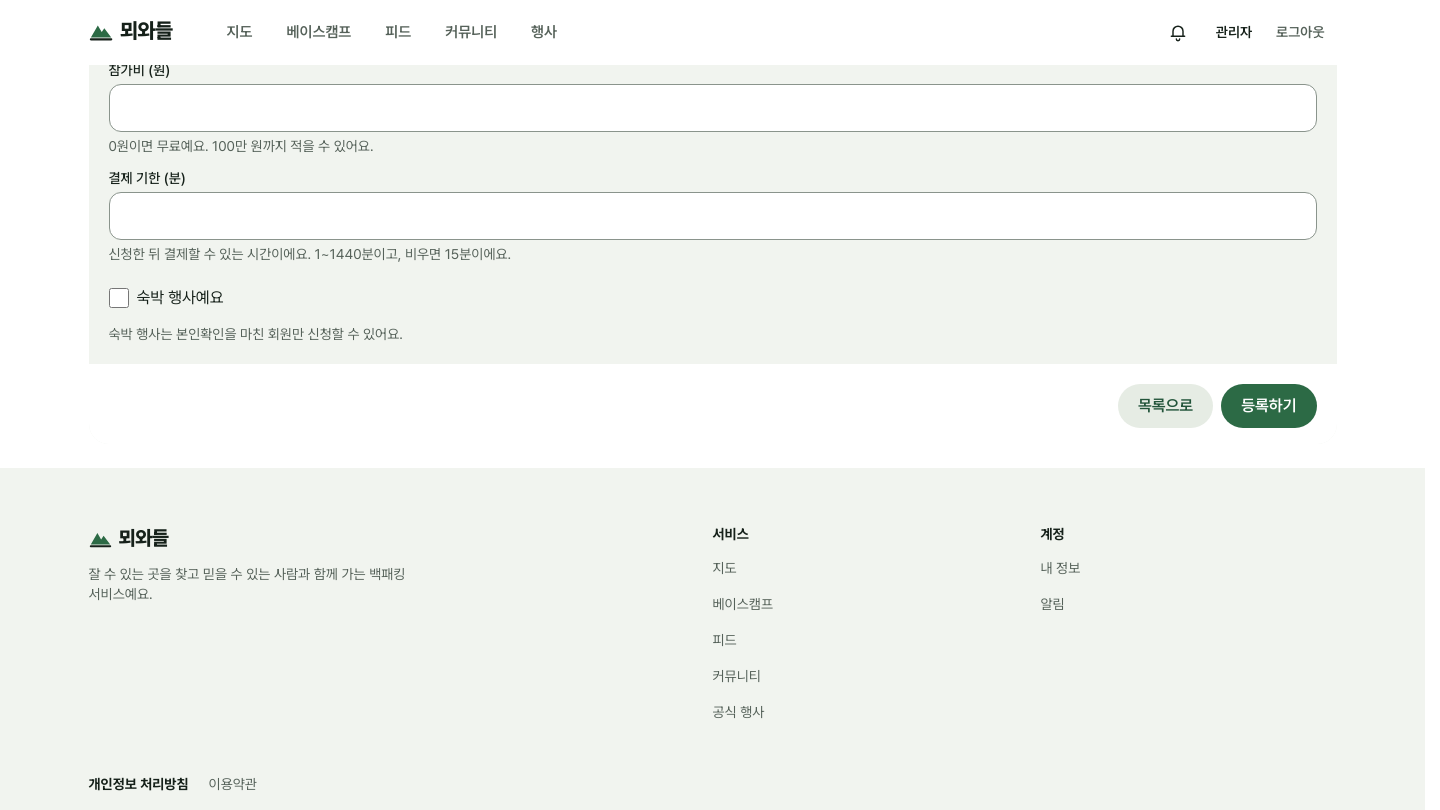
it: 관리자 행사 등록·수정 화면 › 등록 › 비워 둔 채 등록하면 필드 아래에 문구를 보이고 요청을 보내지 않고 첫 오류로 포커스를 옮긴다
The width and height of the screenshot is (1440, 810).
(page scrolled)
Click the button "등록하기". click: (1269, 406)
box: [1221,384,1316,428]
(page scrolled)
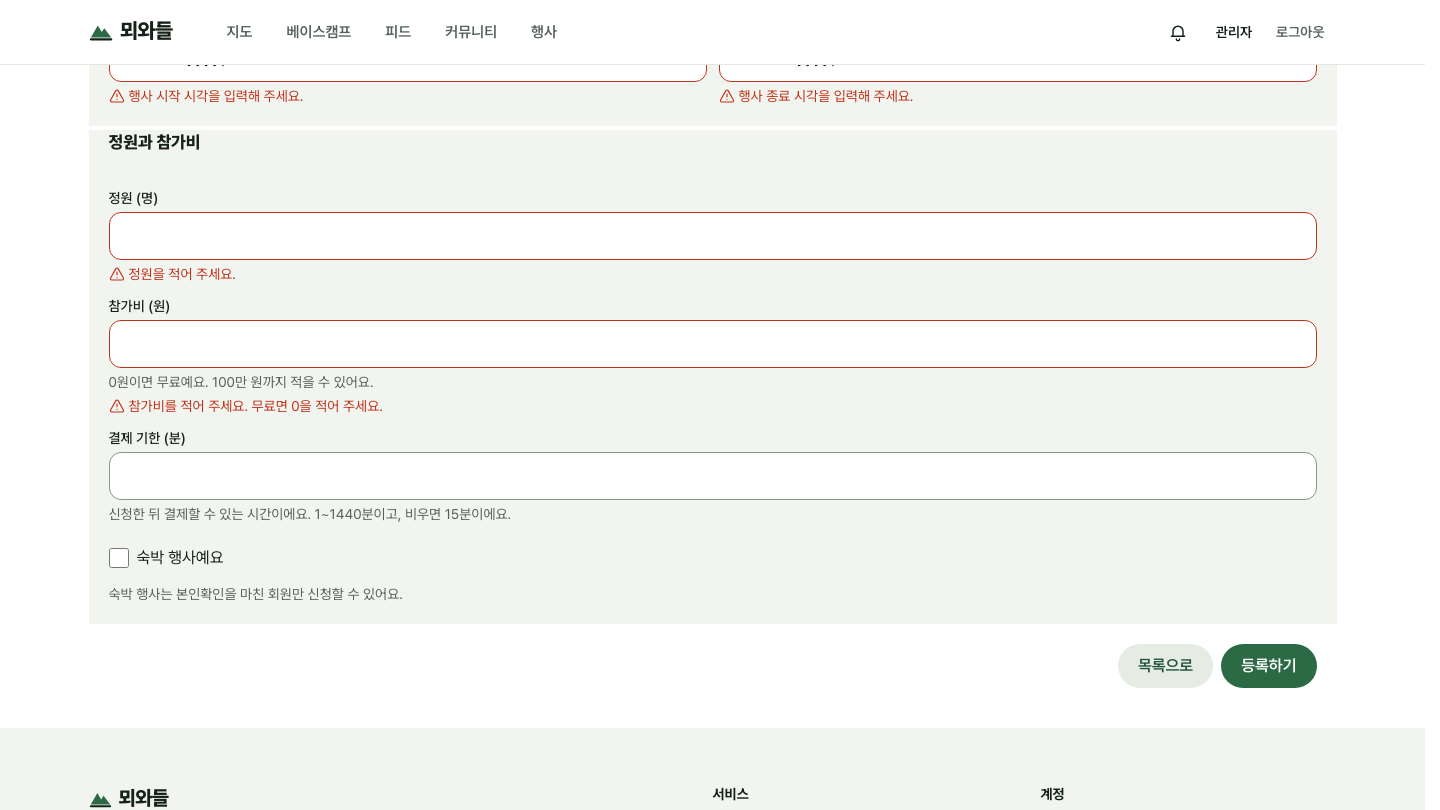
Expected: the text "행사 종료 시각을 입력해 주세요." is shown, [738,86,913,106]
Expected: the text "정원을 적어 주세요." is shown, [128,264,236,284]
